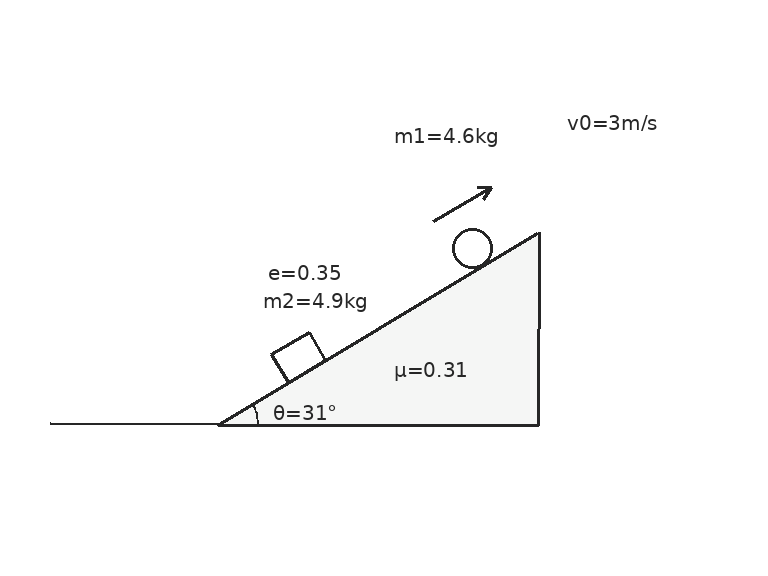ball: (450, 226, 494, 270)
block: (269, 330, 327, 384)
ramp: (216, 229, 541, 426)
